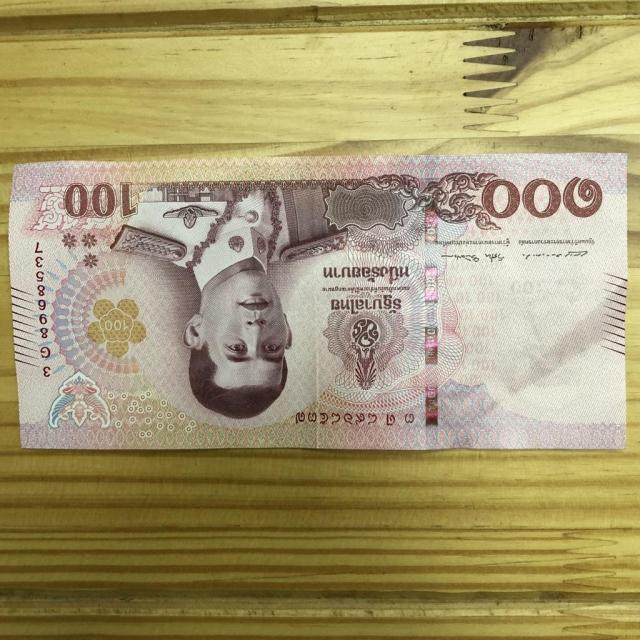THAI100: (10, 154, 628, 449)
